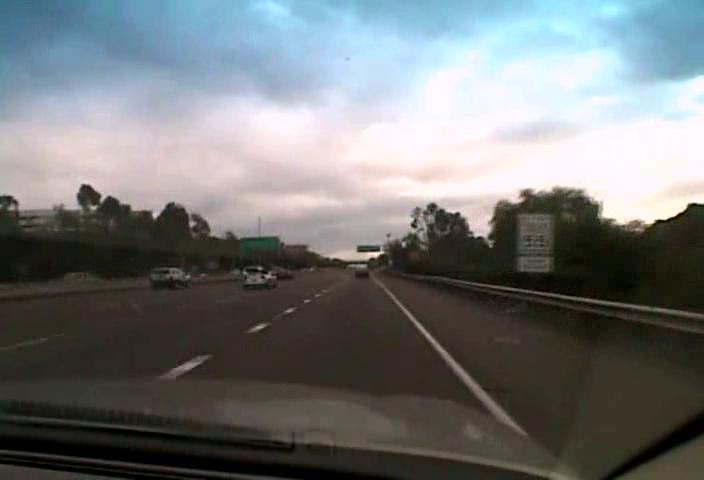truckSpeedLimit55: (515, 211, 555, 256)
